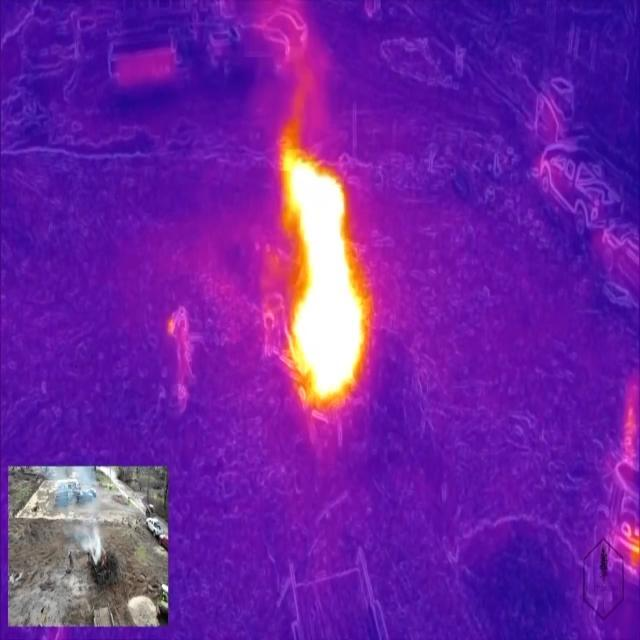fire: (280, 139, 373, 409)
